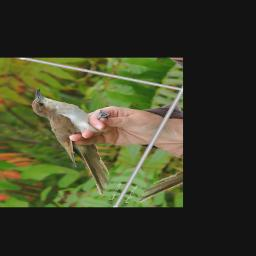Cuckoo: (0, 88, 153, 195)
